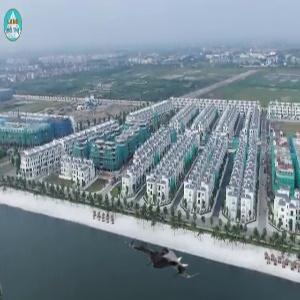drone: (128, 225, 200, 297)
